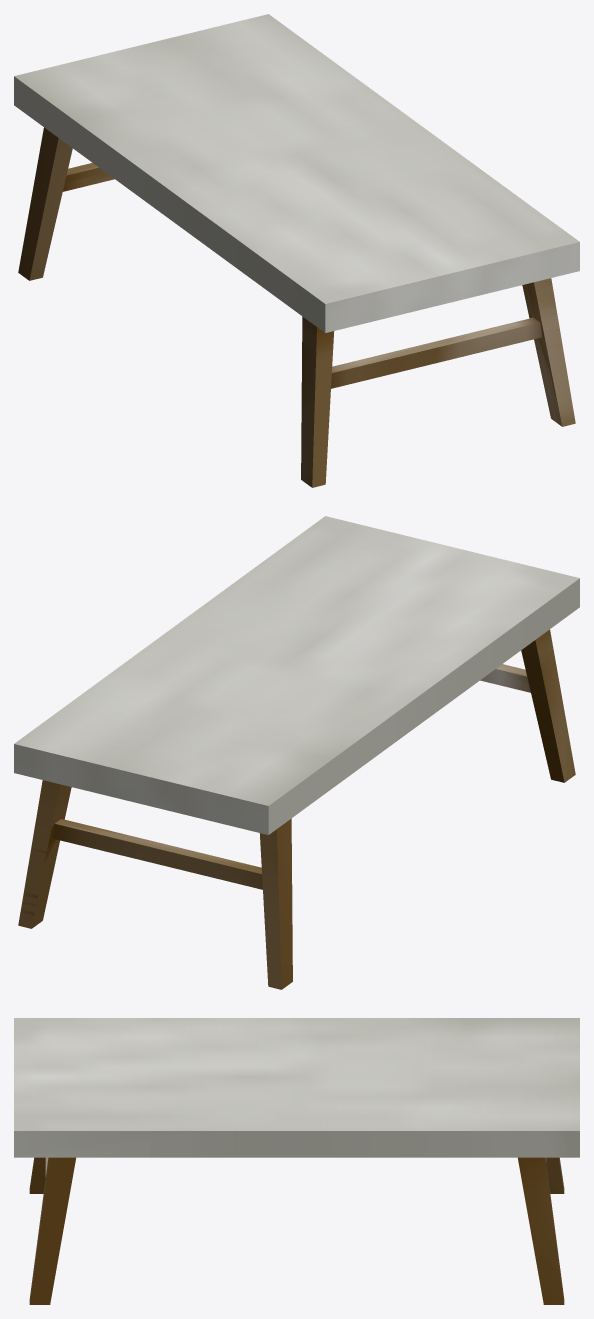
The picture shows the model from 3 angles, top to bottom: view 1: azimuth 30°, elevation 25°; view 2: azimuth 150°, elevation 25°; view 3: azimuth 270°, elevation 25°; orthographic projection. The views are drawn at different scales.
Visible parts, largest first — view 1: Kostka.002; view 2: Kostka.002; view 3: Kostka.002.
Part boxes in pixels (box(x1,y1,x2,y2)): Kostka.002: box(14, 14, 579, 487); Kostka.002: box(14, 516, 579, 989); Kostka.002: box(14, 1018, 579, 1304).
Bounding box in the file's own units: 360 × 247 × 737.
1 material, 1 textured.
